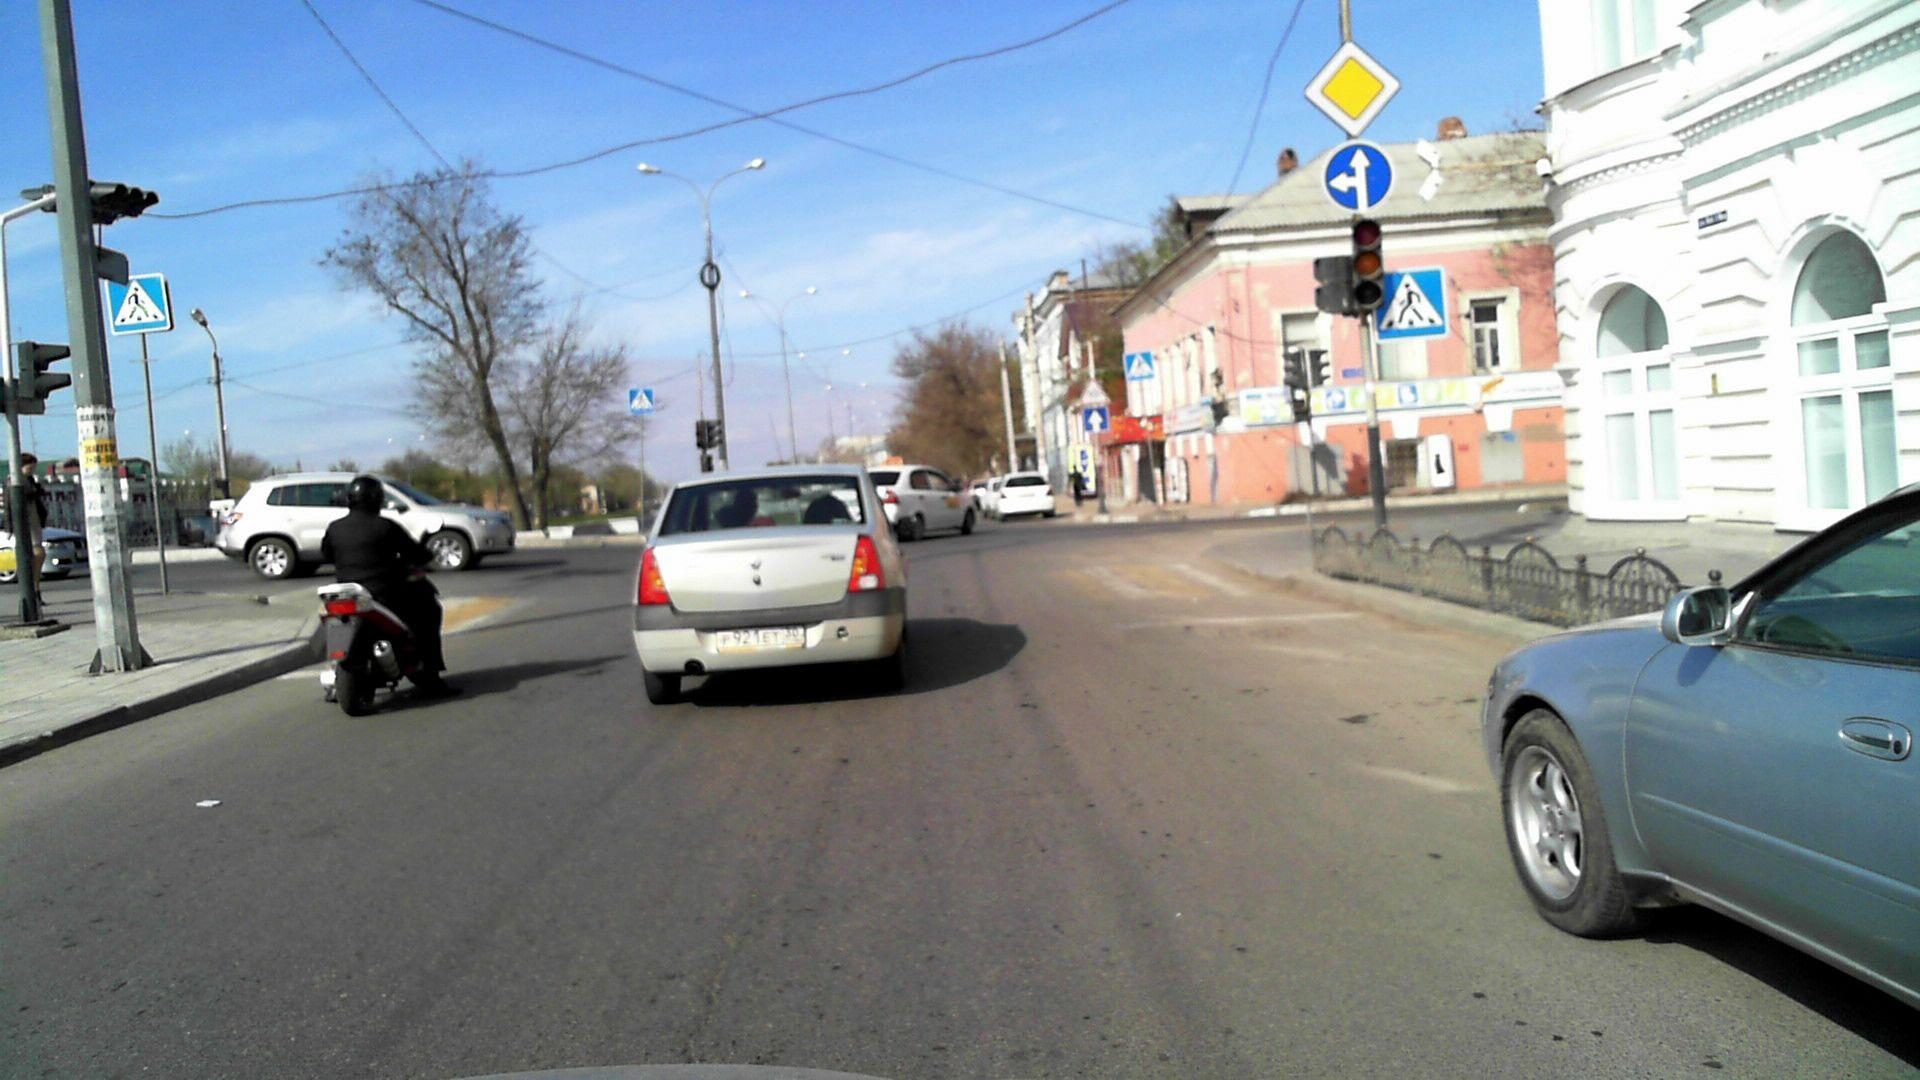2_1: (1308, 38, 1398, 131)
4_1_5: (1323, 142, 1394, 212)
5_19_1: (1370, 273, 1453, 342), (1121, 351, 1158, 385)
5_19_2: (105, 276, 171, 336), (625, 385, 658, 418)
5_5: (1084, 404, 1106, 436)
